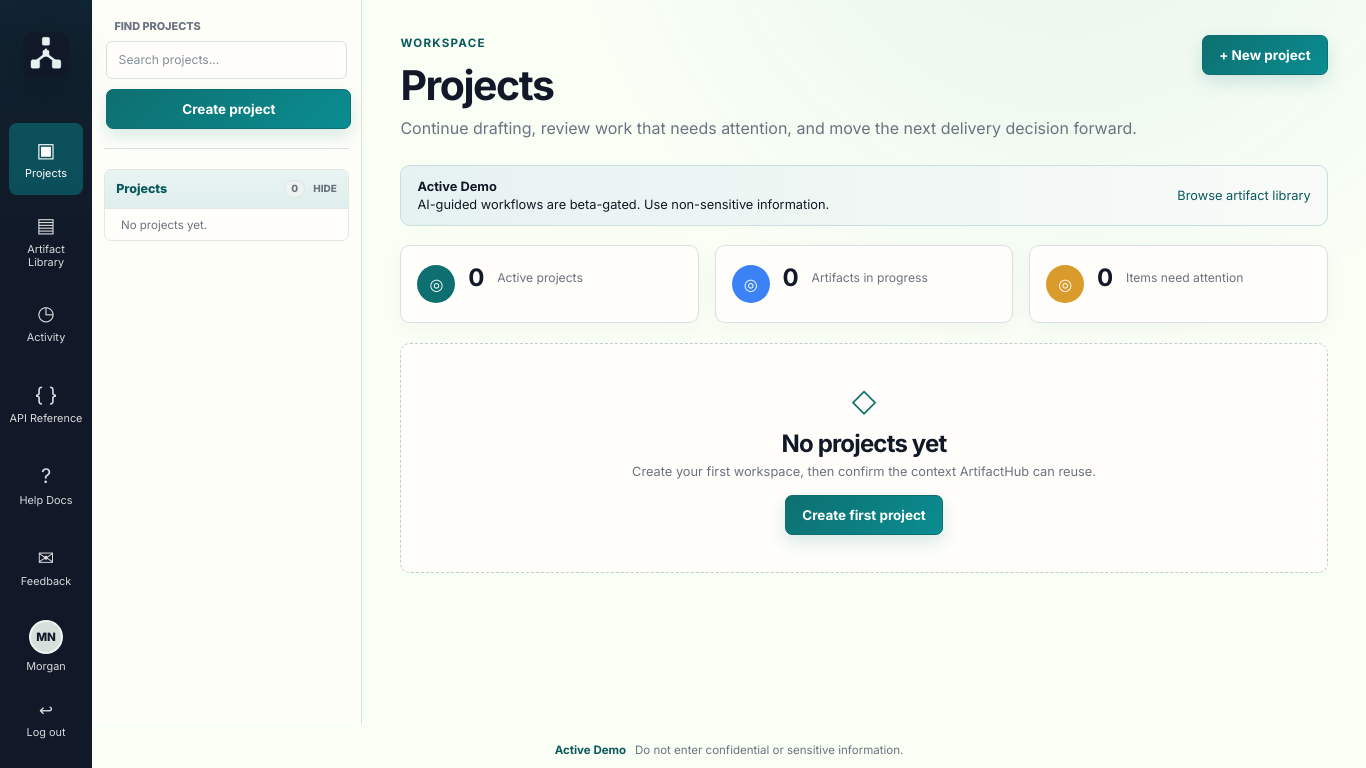
it: React application shell › shows a visible error when project creation fails
The width and height of the screenshot is (1366, 768).
Click the button "Create project": click(229, 109) [106,89,351,129]
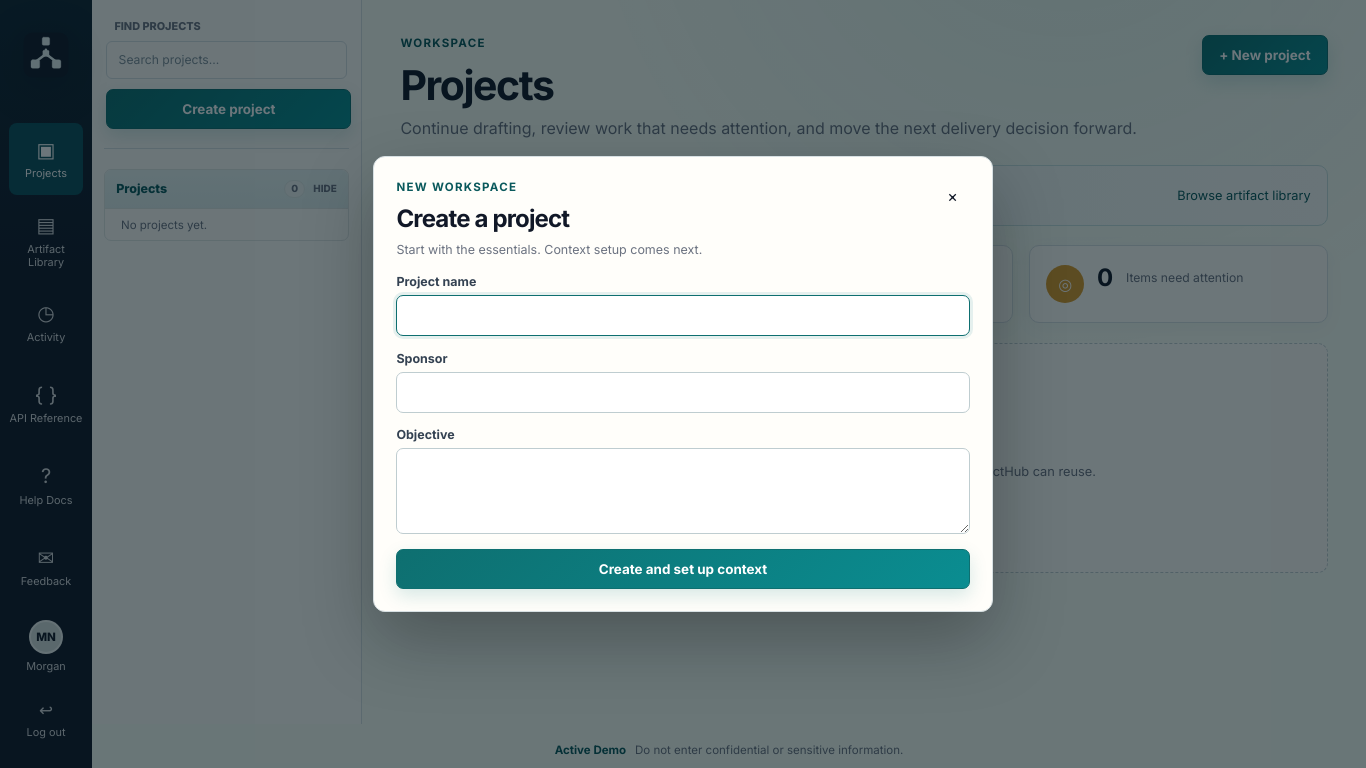
In the field labelled "Project name": (683, 316) [396,295,970,336], type "Broken Project"
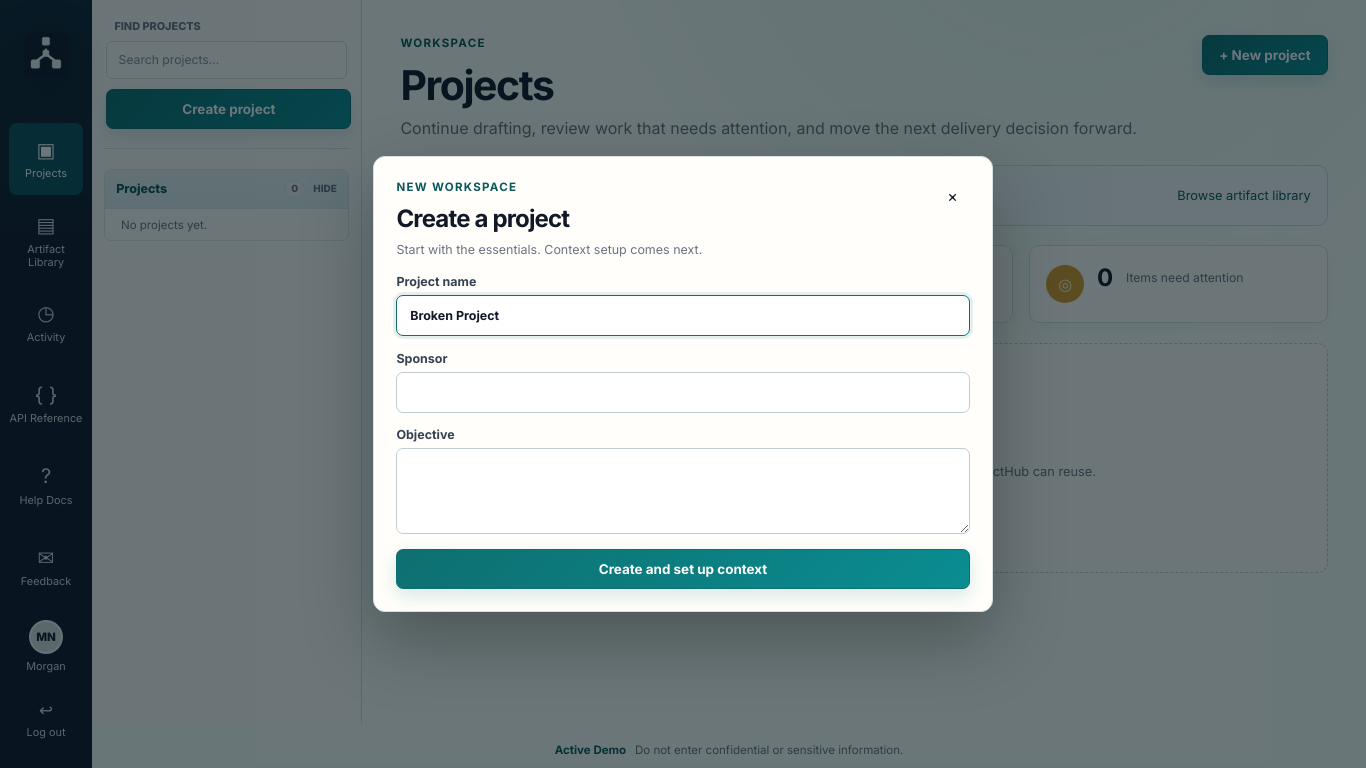
Click the button "Create and set up context": click(683, 569) [396,549,970,589]
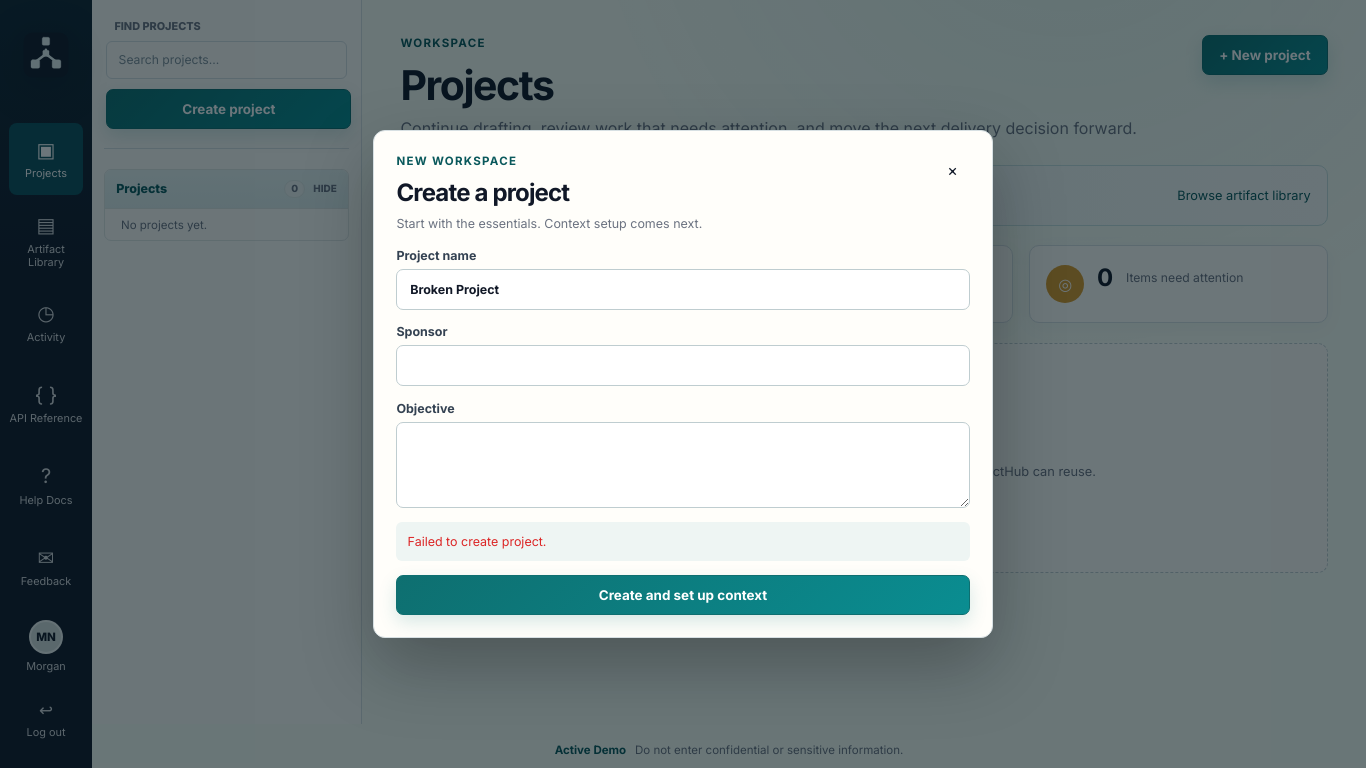
Result: the message reads "Failed to create project." at [408,534,546,549]
